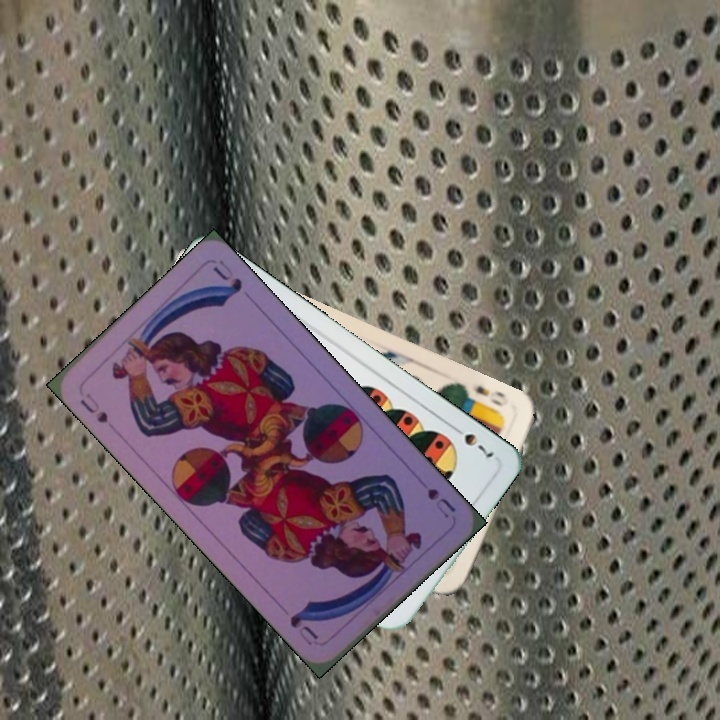EO: (468, 381, 508, 410)
S7: (447, 420, 497, 460)
SU: (423, 484, 458, 521), (76, 389, 111, 426)
